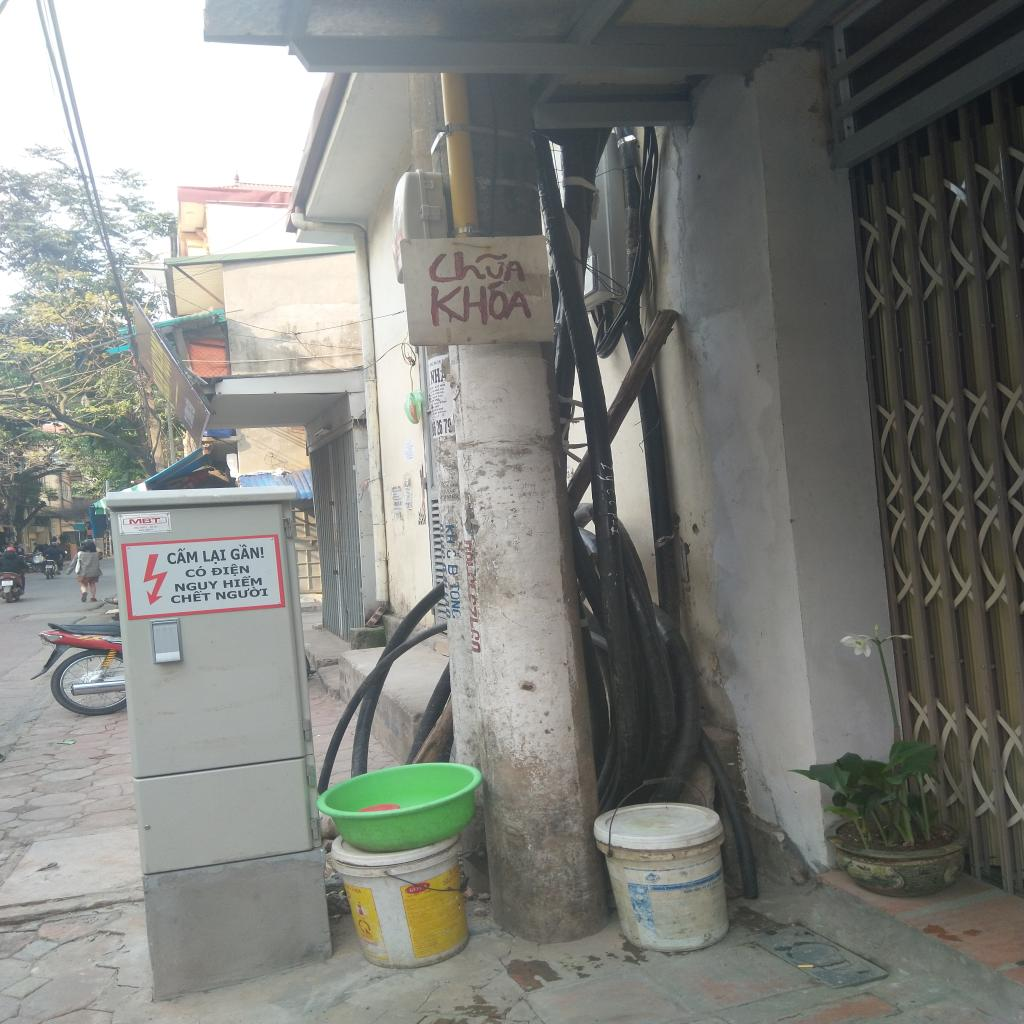text: (428, 281, 534, 329), (423, 251, 528, 283), (215, 585, 269, 601), (229, 543, 266, 561), (210, 562, 251, 578), (169, 590, 212, 605), (221, 574, 263, 589), (166, 547, 200, 565), (174, 580, 218, 593), (449, 581, 462, 619), (202, 549, 228, 565), (184, 565, 208, 579), (128, 517, 162, 525), (433, 418, 447, 436), (445, 524, 456, 544), (430, 367, 441, 385), (447, 564, 459, 576), (446, 549, 458, 560), (682, 888, 693, 894), (138, 528, 154, 532), (409, 886, 419, 892), (432, 360, 441, 366), (354, 888, 362, 894), (694, 886, 702, 892), (438, 410, 448, 414), (439, 400, 447, 404), (450, 488, 456, 493), (435, 384, 440, 389), (440, 383, 446, 387), (140, 526, 147, 529), (434, 401, 439, 405), (438, 394, 443, 398), (150, 526, 158, 528), (440, 387, 444, 391), (134, 527, 140, 529)
